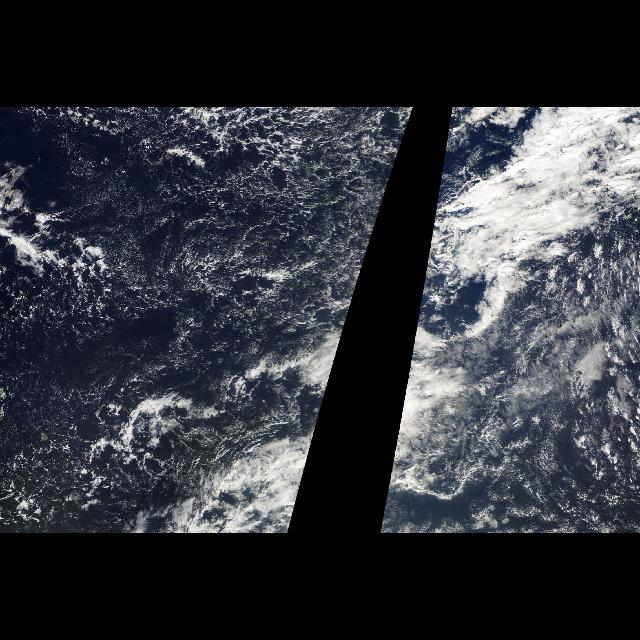Gravel: (11, 108, 375, 370), (17, 388, 177, 508)
Sugar: (60, 134, 338, 360)
